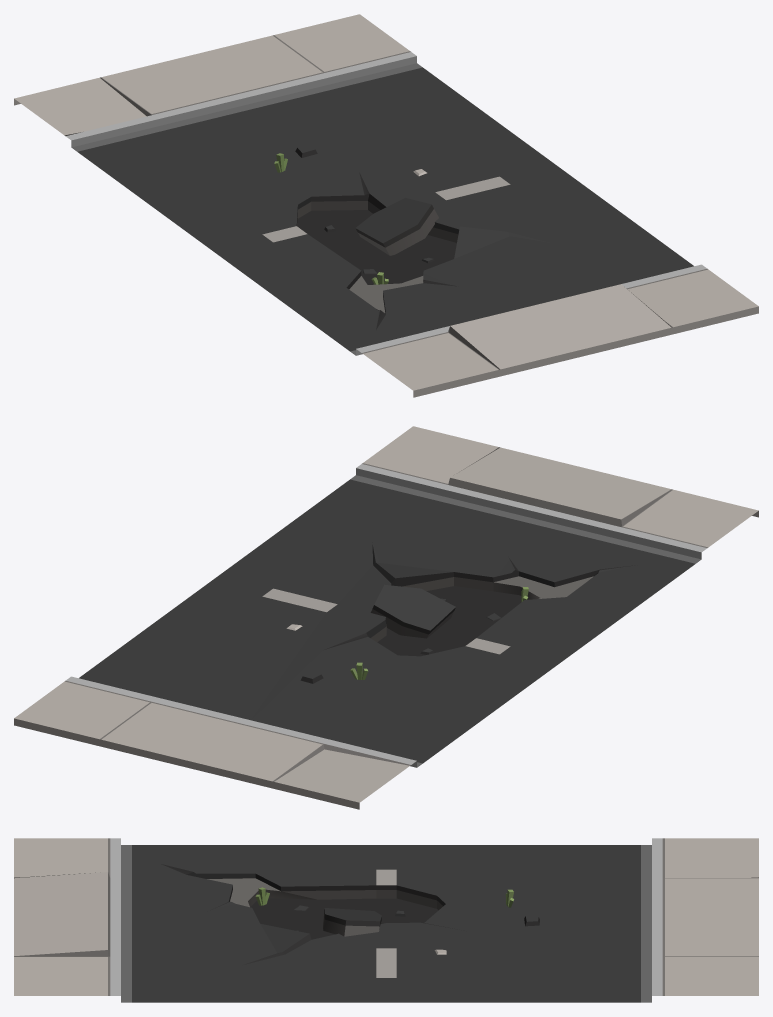
File: SA_Env_RoadStraight_Damaged_06.gltf
3 views of the same model, one above another, from view 1: azimuth 30°, elevation 25°; view 2: azimuth 150°, elevation 25°; view 3: azimuth 270°, elevation 25° (orthographic). The views are drawn at different scales.
Visible parts, largest first — view 1: SA_Env_RoadStraight_Damaged_06; view 2: SA_Env_RoadStraight_Damaged_06; view 3: SA_Env_RoadStraight_Damaged_06.
Part boxes in pixels (x1,y1,x2,y2): SA_Env_RoadStraight_Damaged_06: (14, 14, 758, 397); SA_Env_RoadStraight_Damaged_06: (14, 426, 758, 809); SA_Env_RoadStraight_Damaged_06: (14, 838, 758, 1002).
Size of the model in its own units: 10 by 0.9825 by 20.
Materials: 1 (1 with a texture image).
